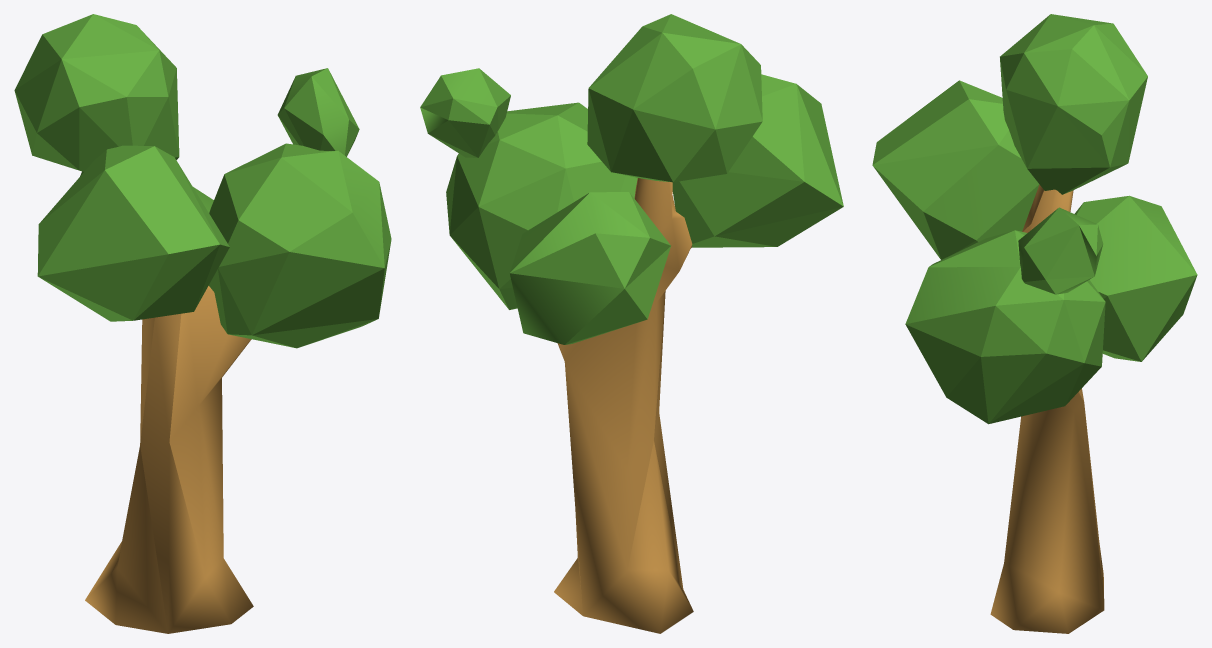
The model's file is Tree5.fbx.
The picture shows the model from 3 angles, left to right: view 1: azimuth 30°, elevation 25°; view 2: azimuth 150°, elevation 25°; view 3: azimuth 270°, elevation 25°; orthographic projection. The views are drawn at different scales.
Parts seen in each view (by area): view 1: Leaves, Tree_2; view 2: Leaves, Tree_2; view 3: Leaves, Tree_2.
Part boxes in pixels (left/top/right/bottom): Leaves: left=14, top=14, right=391, bottom=348; Tree_2: left=85, top=286, right=253, bottom=633; Leaves: left=420, top=14, right=843, bottom=344; Tree_2: left=554, top=178, right=693, bottom=633; Leaves: left=872, top=14, right=1197, bottom=424; Tree_2: left=990, top=184, right=1104, bottom=633.
Bounding box in the file's own units: 699 × 1102 × 586.
